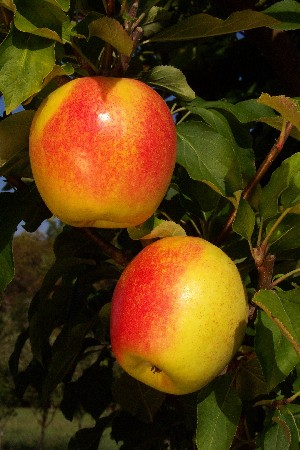apple: (105, 233, 251, 397), (25, 76, 179, 230)
